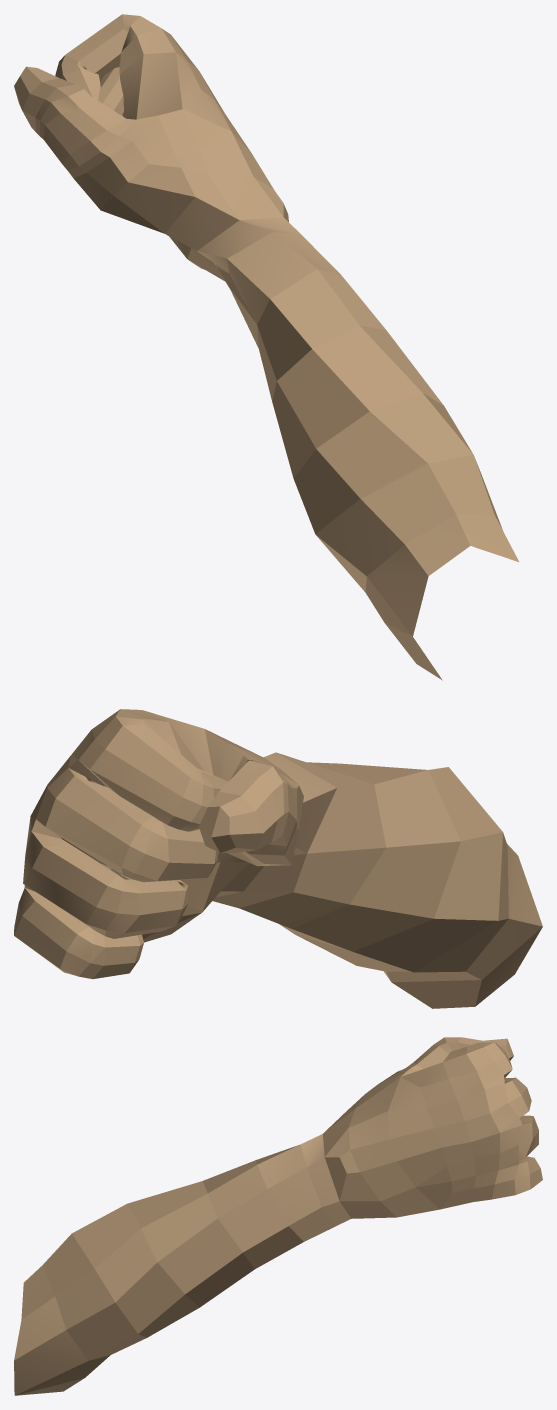
Rendered from fp_arm.glb.
3 renders of one model, top to bottom at view 1: azimuth 30°, elevation 25°; view 2: azimuth 150°, elevation 25°; view 3: azimuth 270°, elevation 25°, orthographic. The views are drawn at different scales.
Parts seen in each view (by area): view 1: Mesh; view 2: Mesh; view 3: Mesh.
Boxes of the visible parts, x1=… form: Mesh: x1=14, y1=14, x2=518, y2=680; Mesh: x1=14, y1=709, x2=542, y2=1008; Mesh: x1=14, y1=1037, x2=542, y2=1395.
Size of the model in its own units: 0.2088 by 0.4251 by 0.609.
